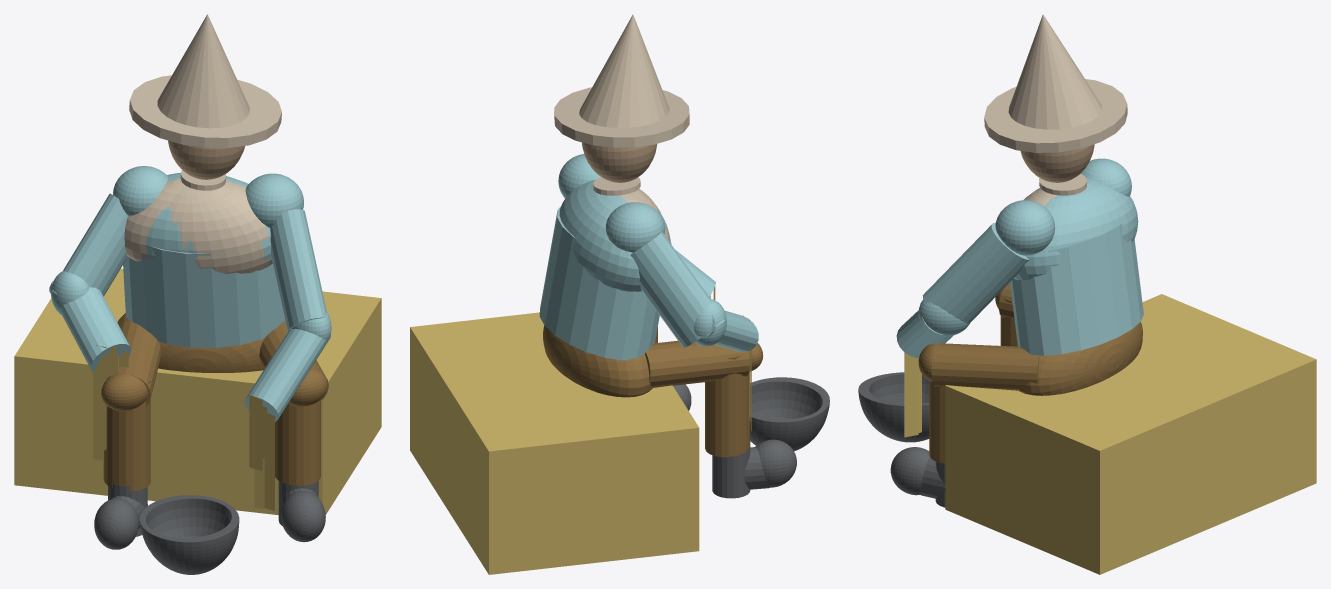
Rendered from doll.glb.
The picture shows the model from 3 angles, left to right: view 1: azimuth 30°, elevation 25°; view 2: azimuth 150°, elevation 25°; view 3: azimuth 270°, elevation 25°; orthographic projection. The views are drawn at different scales.
Parts seen in each view (by area): view 1: Mesh_Mesh_head_geo.001_lambert2SG.001; view 2: Mesh_Mesh_head_geo.001_lambert2SG.001; view 3: Mesh_Mesh_head_geo.001_lambert2SG.001.
Part boxes in pixels (left/top/right/bottom): Mesh_Mesh_head_geo.001_lambert2SG.001: left=14, top=14, right=381, bottom=574; Mesh_Mesh_head_geo.001_lambert2SG.001: left=410, top=14, right=829, bottom=574; Mesh_Mesh_head_geo.001_lambert2SG.001: left=858, top=14, right=1316, bottom=574.
Bounding box in the file's own units: 0.0695 × 0.0939 × 0.0837.
